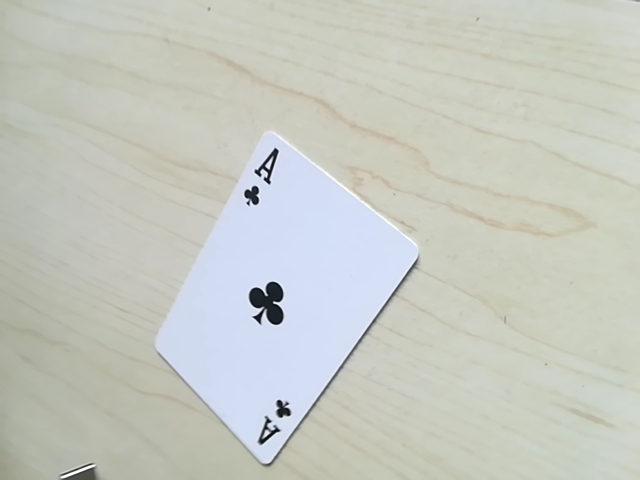mh a: (233, 137, 282, 218), (246, 392, 300, 462)
